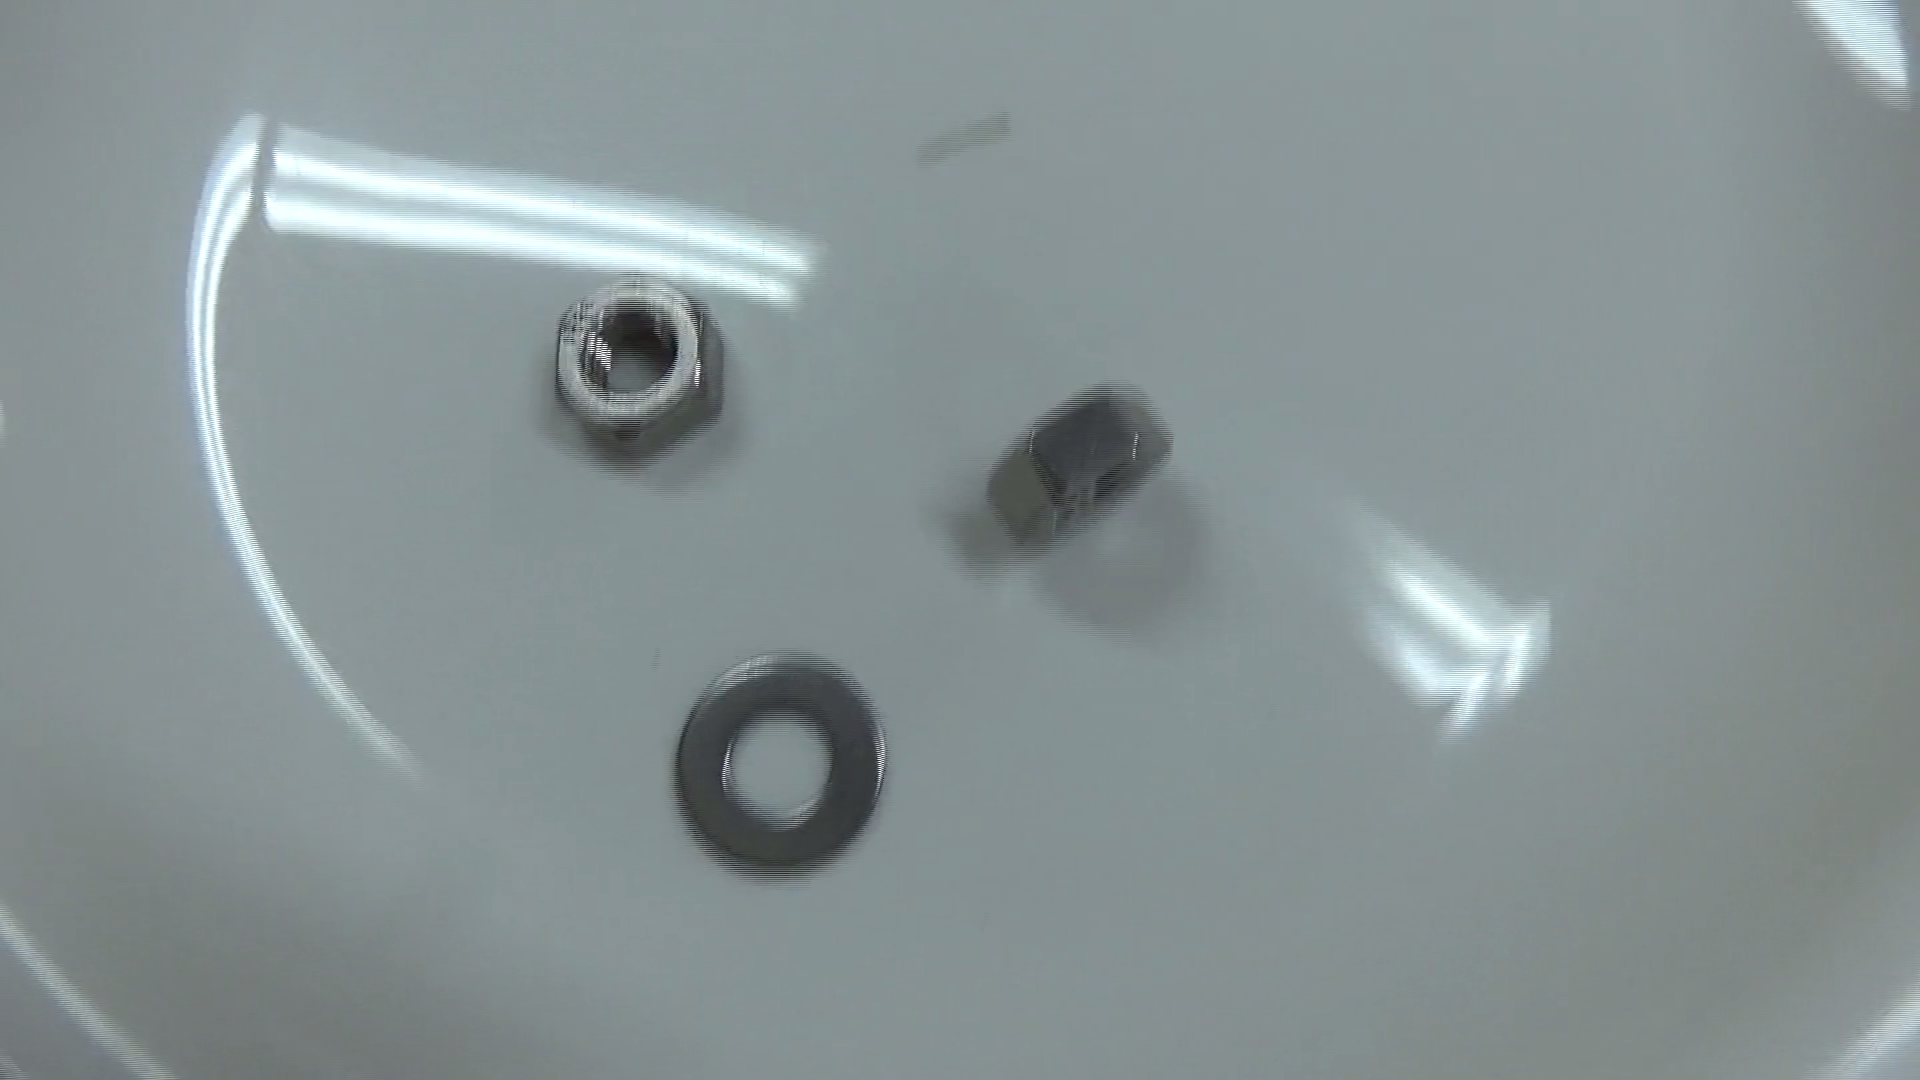nut: (545, 251, 728, 459), (968, 372, 1175, 554)
washer: (655, 640, 897, 885)
